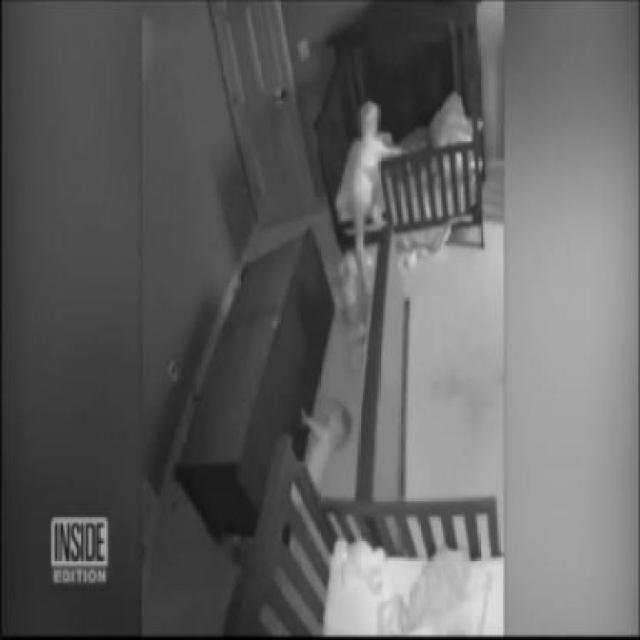child: (338, 77, 416, 328)
